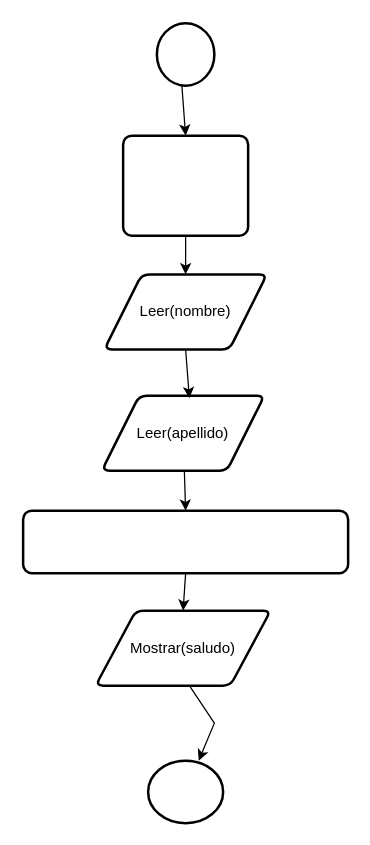
The diagram is 370 pixels wide and 845 high, and some of its shapes have lost their labels. The centre of each missing label's shape, as x and y in pixels:
saludo = "Hola " + nombre + " " + apellido: pixel 185 541
Texto nombre Texto apellido Texto saludo: pixel 185 185
